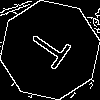T: (25, 25, 80, 76)
